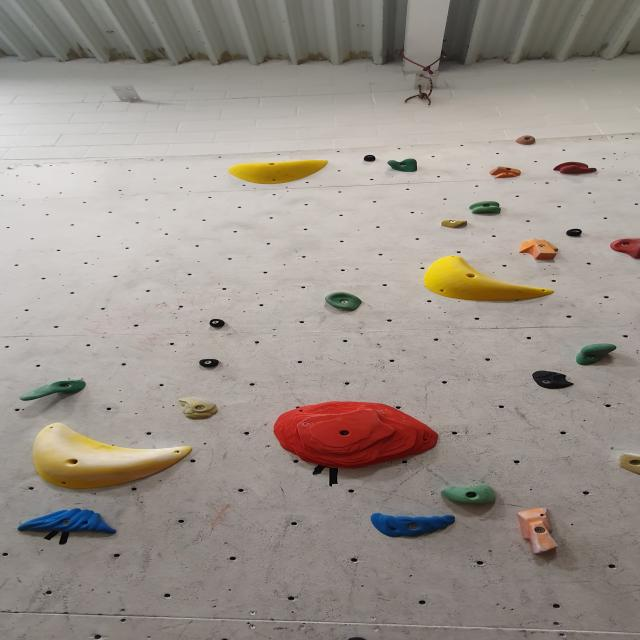Crimp: (271, 398, 442, 472), (13, 506, 118, 534), (370, 515, 460, 538), (438, 482, 503, 505), (179, 397, 221, 419), (553, 163, 598, 177), (618, 454, 640, 476), (488, 167, 524, 180), (516, 136, 540, 146)
Jug: (18, 377, 84, 404), (572, 337, 622, 367), (324, 291, 365, 311), (610, 240, 640, 260), (468, 202, 502, 217), (387, 159, 421, 174)
Pinch: (504, 506, 559, 562), (517, 240, 560, 262), (437, 216, 475, 232), (194, 356, 225, 368), (565, 229, 586, 239), (208, 318, 228, 328), (362, 154, 377, 162)
Sloper: (28, 422, 195, 489), (424, 256, 558, 302), (227, 158, 333, 184), (526, 368, 582, 392)
